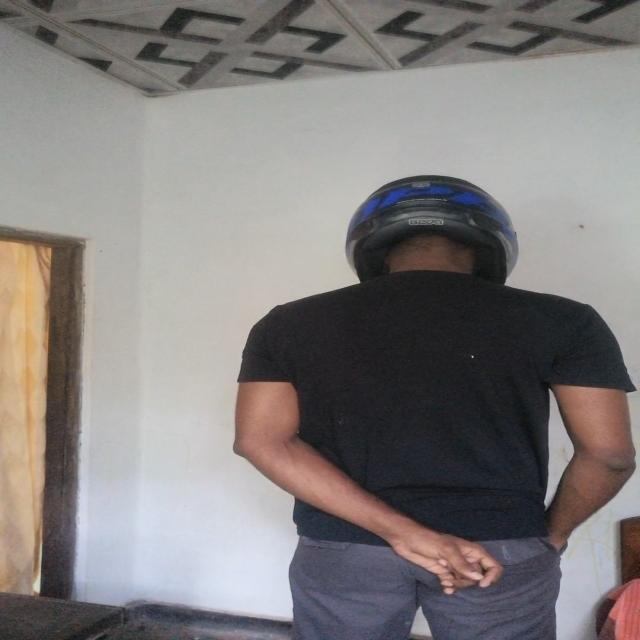Helmet_Wearer: (336, 169, 529, 284)
Person: (244, 160, 640, 640)
